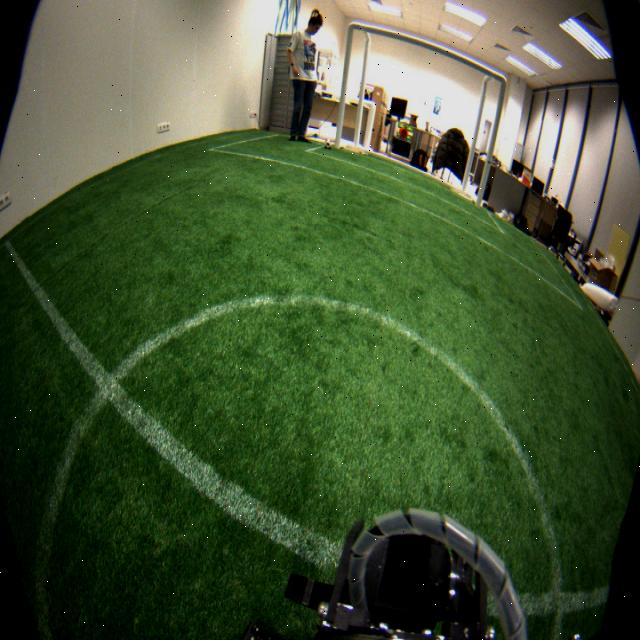ball: (324, 137, 333, 151)
goalpost: (473, 76, 510, 210), (334, 18, 356, 149)
